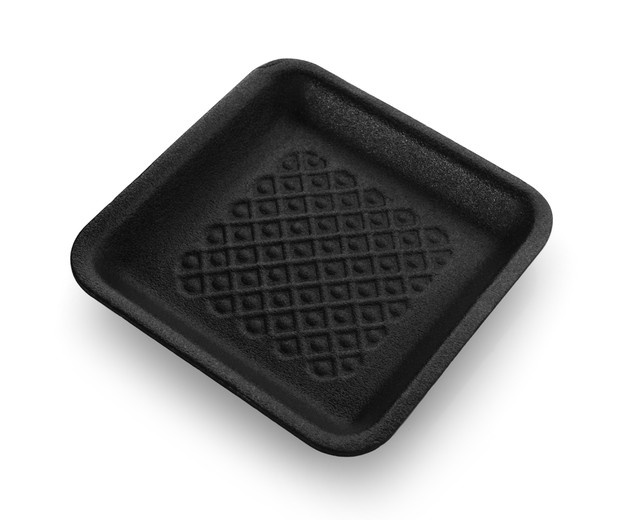Foam Box: (63, 54, 561, 460)
